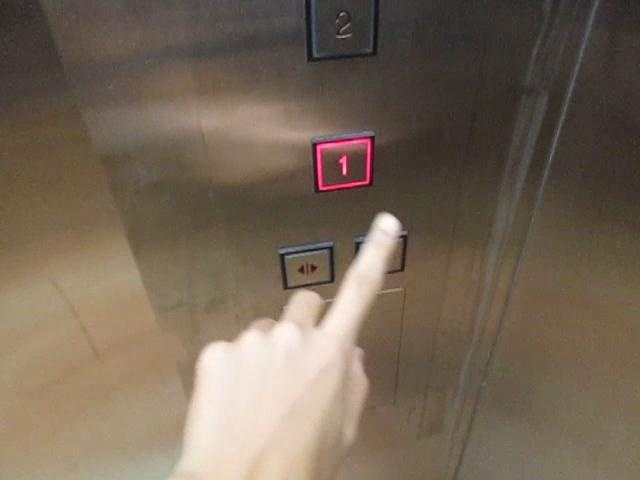1: (310, 131, 376, 196)
2: (302, 1, 381, 63)
open: (275, 240, 340, 295)
